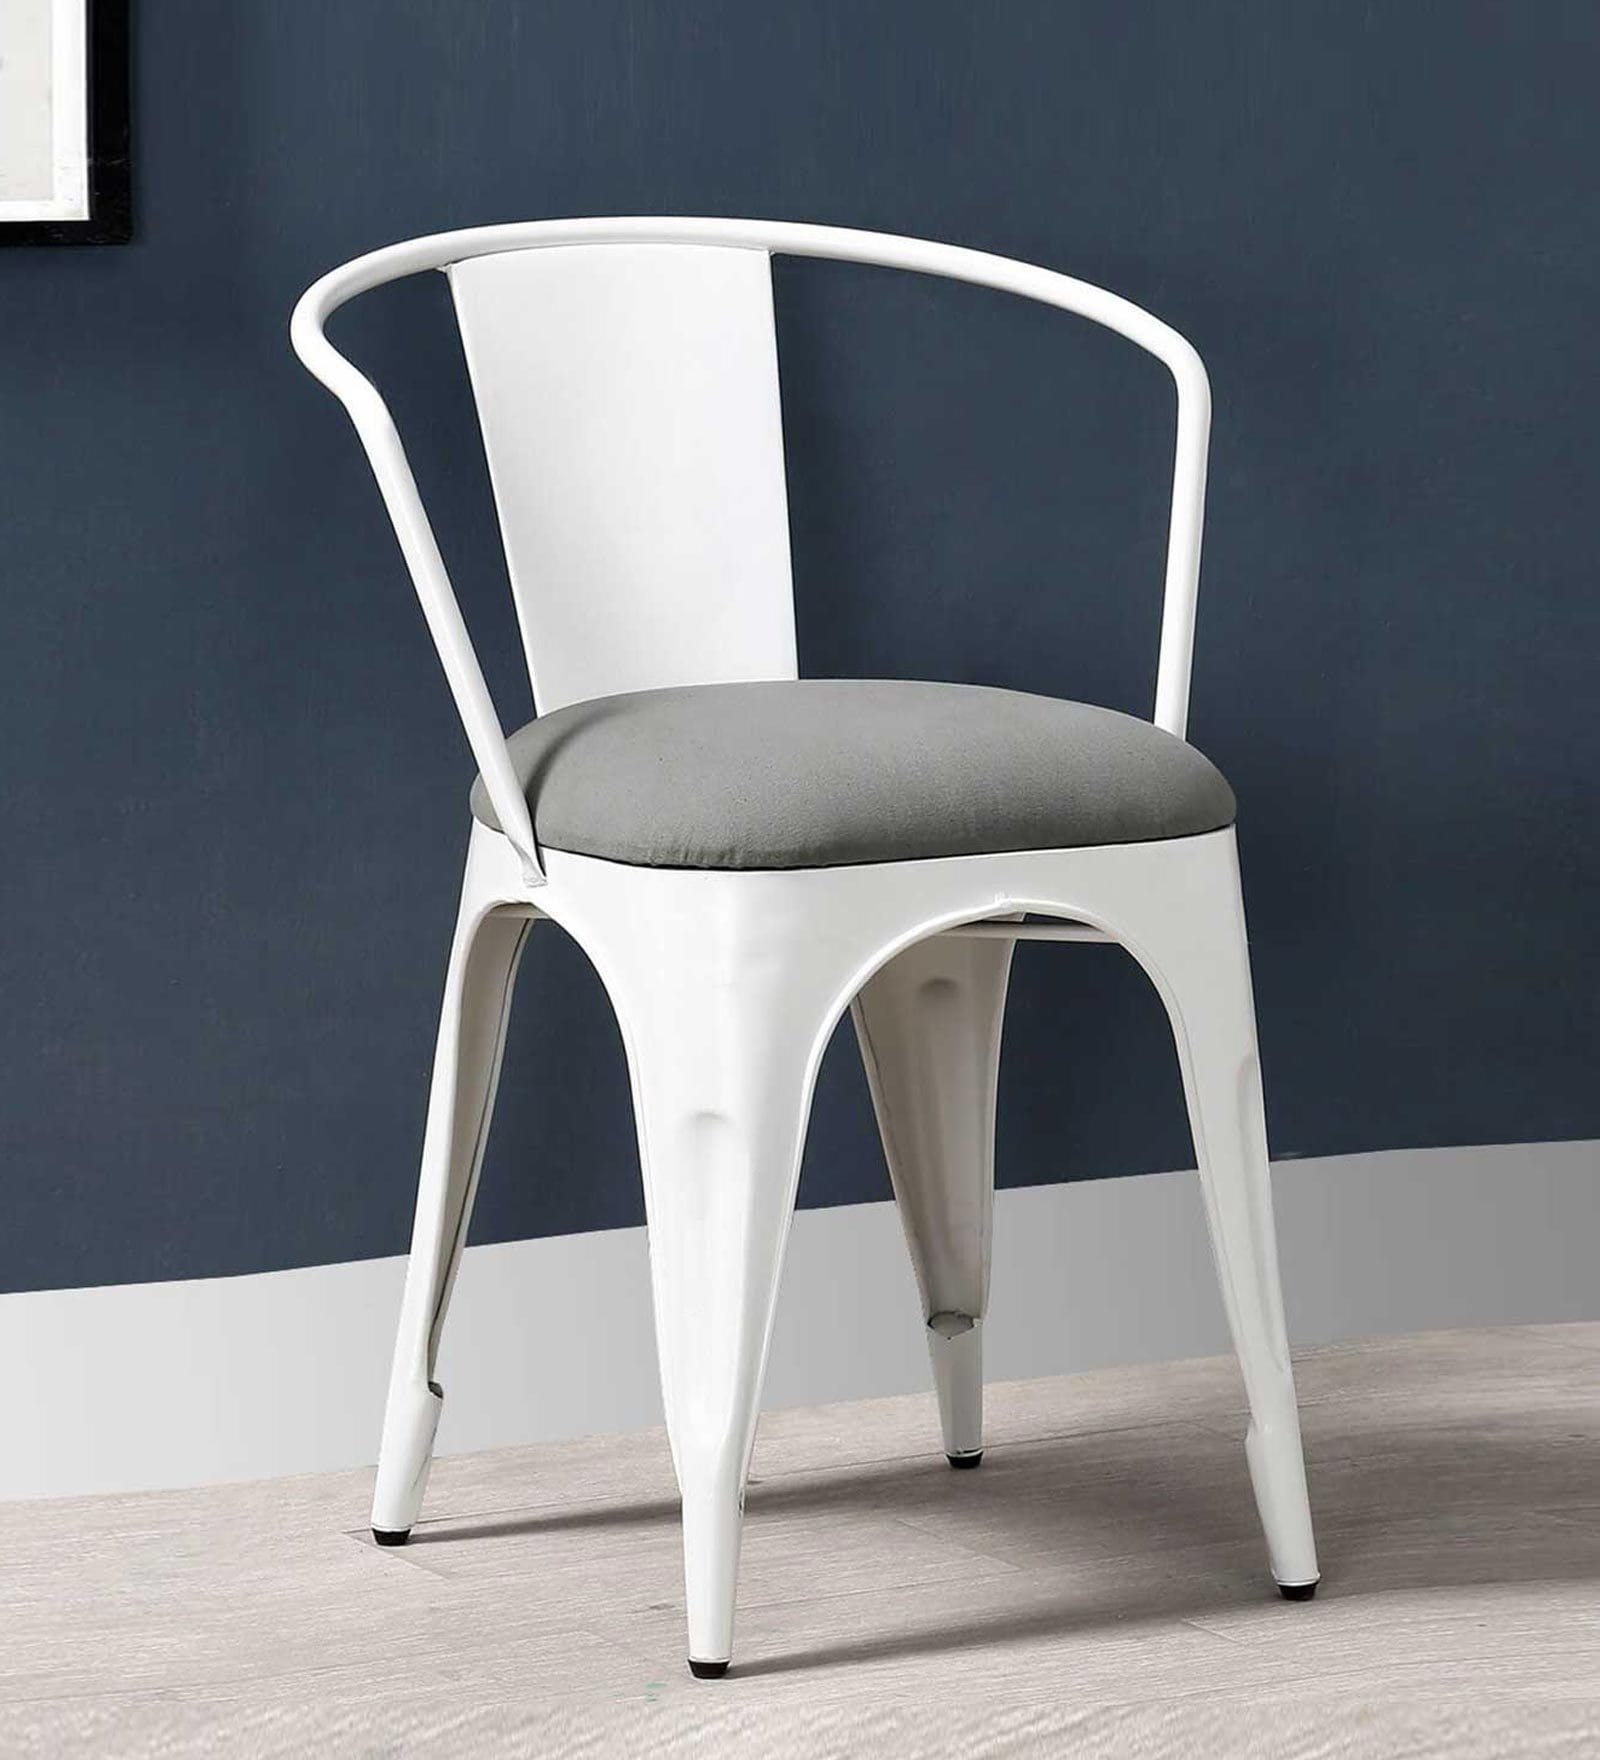Danlou Metal Chair with Cushion in White Colour by Bohemiana: (215, 199, 1356, 1689)
